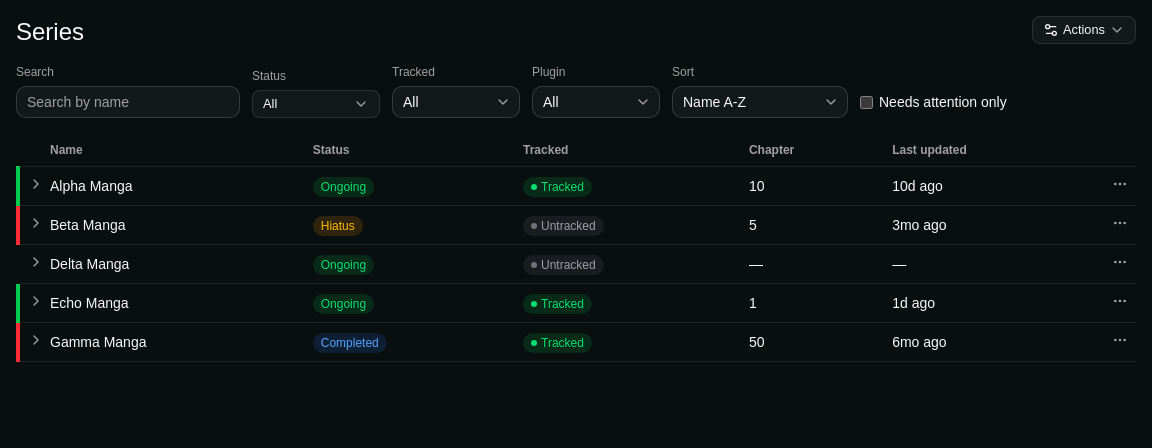
Scenario: SeriesPage › expands a row to reveal entity id, plugin link, and metadata updated
Step 1. Click the button named "Expand" next to "Alpha Manga" → (36, 184), box [28,176,44,192]
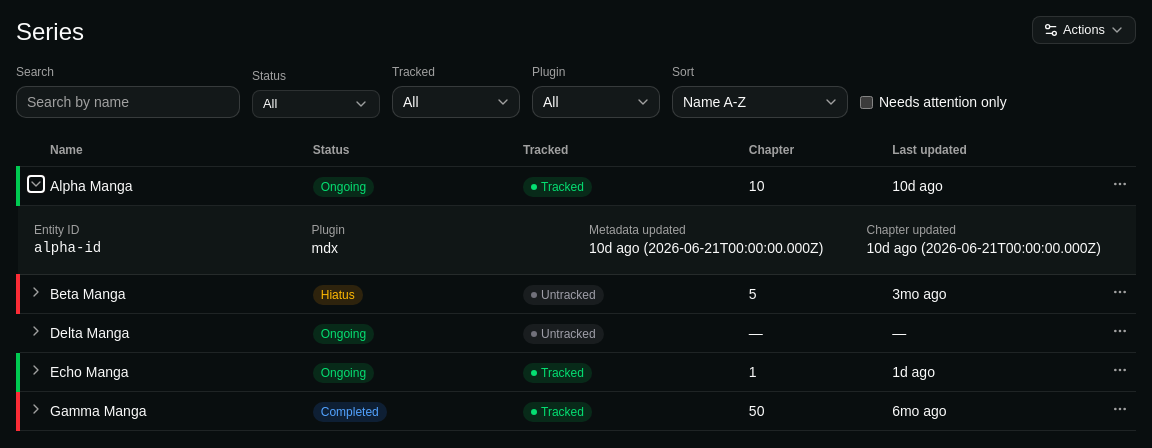
Now the text "alpha-id" is shown, box [34,240,101,256]
Now the text "Metadata updated" is shown, box [589,223,686,237]
